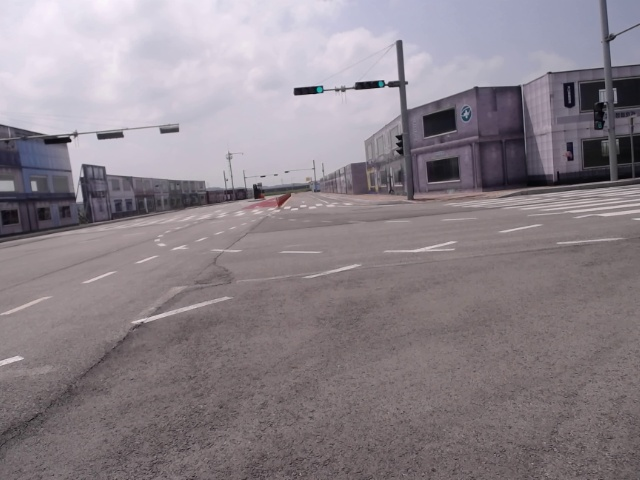straight_green_4: (296, 85, 324, 96), (356, 80, 386, 89)
